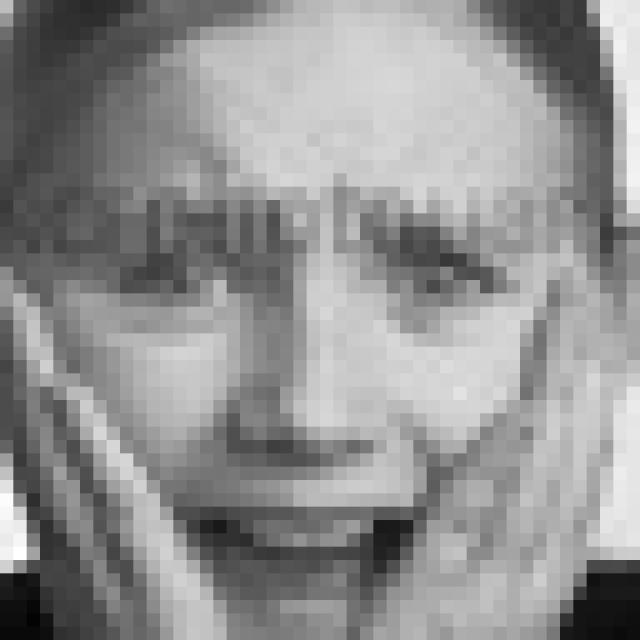fear: (99, 185, 536, 612)
